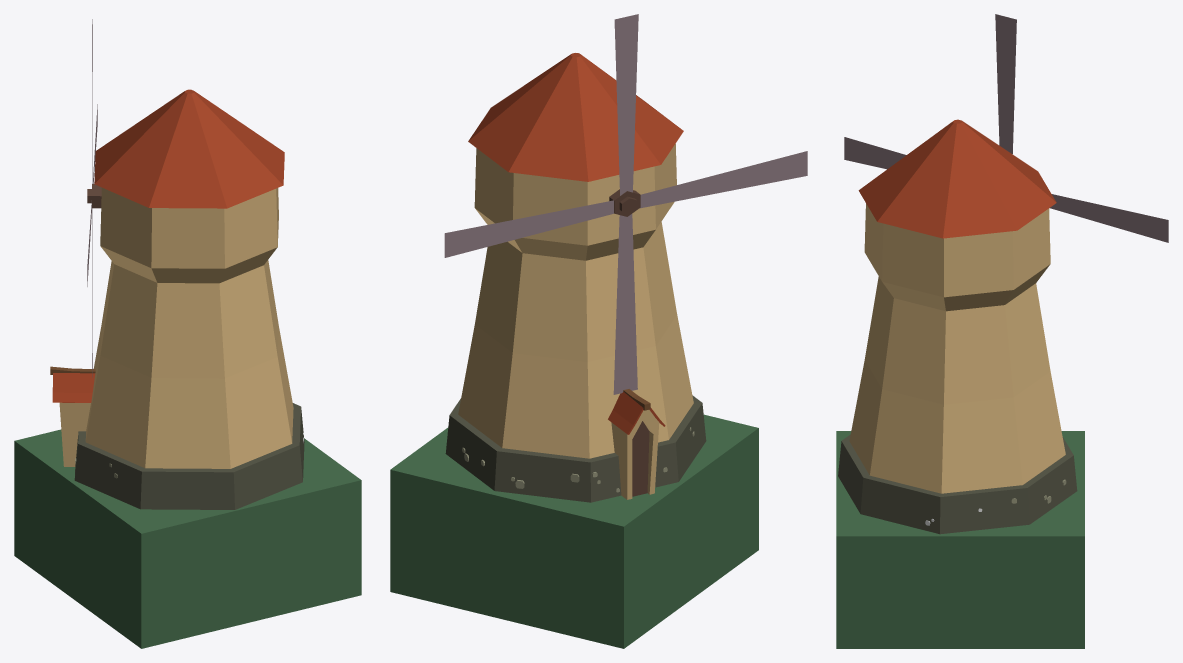
The model's file is Windmill.glb.
3 views of the same model, side by side, from view 1: azimuth 30°, elevation 25°; view 2: azimuth 150°, elevation 25°; view 3: azimuth 270°, elevation 25° (orthographic). The views are drawn at different scales.
Parts seen in each view (by area): view 1: Body, tile, Roof, Body.001, Door, Plane, Plane.002; view 2: tile, Body, Roof, Plane.002, Body.001, Door, Door.001, Plane, Cylinder; view 3: Body, tile, Roof, Body.001, Plane.002.
Part boxes in pixels (bbox=[...]): Body: bbox=[85, 187, 293, 468]; tile: bbox=[14, 429, 361, 648]; Roof: bbox=[94, 89, 284, 208]; Body.001: bbox=[74, 403, 304, 509]; Door: bbox=[59, 402, 90, 466]; Plane: bbox=[52, 373, 95, 402]; Plane.002: bbox=[87, 19, 97, 377]; tile: bbox=[390, 414, 758, 648]; Body: bbox=[458, 144, 693, 458]; Roof: bbox=[468, 53, 683, 181]; Plane.002: bbox=[444, 14, 807, 394]; Body.001: bbox=[445, 395, 706, 502]; Door: bbox=[611, 410, 659, 499]; Door.001: bbox=[632, 421, 649, 496]; Plane: bbox=[608, 392, 665, 434]; Cylinder: bbox=[609, 189, 640, 216]; Body: bbox=[849, 203, 1065, 493]; tile: bbox=[836, 431, 1084, 648]; Roof: bbox=[858, 119, 1056, 238]; Body.001: bbox=[838, 434, 1077, 534]; Plane.002: bbox=[844, 14, 1168, 242].
Bounding box in the file's own units: 2.46 × 4.84 × 2.67.
